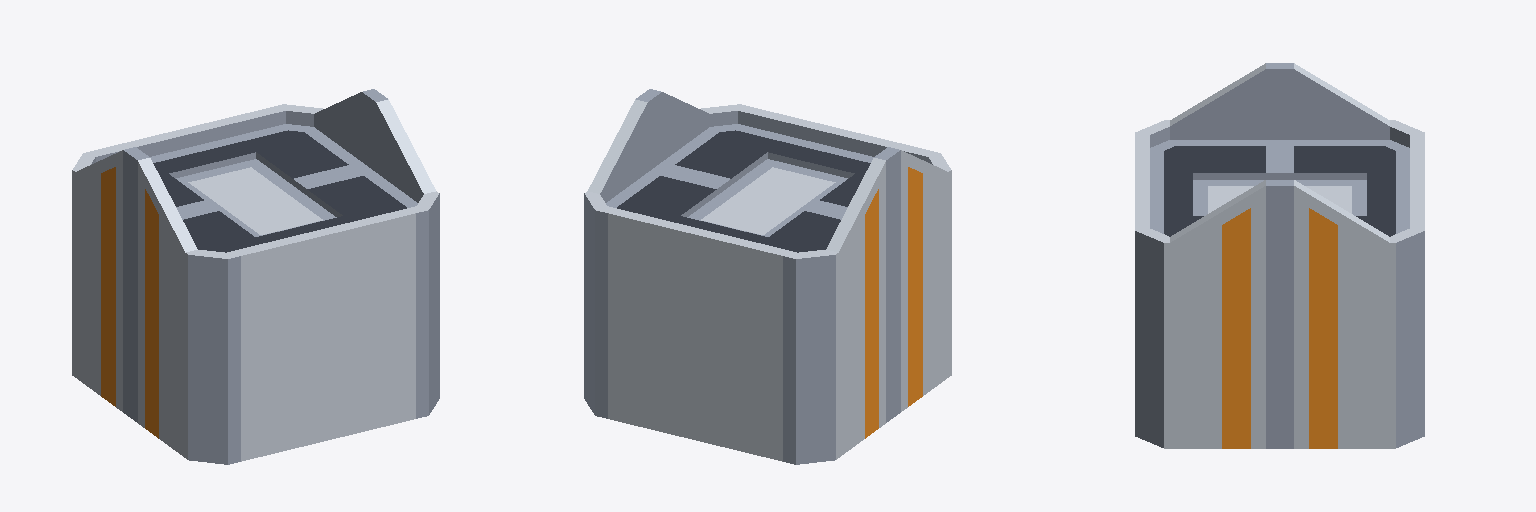
Rendered from buildings_4.obj.
The picture shows the model from 3 angles: view 1: azimuth 30°, elevation 25°; view 2: azimuth 150°, elevation 25°; view 3: azimuth 270°, elevation 25°; orthographic projection.
Parts seen in each view (by area): view 1: hangar_smallB.003_hangar_smallB.002; view 2: hangar_smallB.003_hangar_smallB.002; view 3: hangar_smallB.003_hangar_smallB.002.
Boxes of the visible parts, x1=… form: hangar_smallB.003_hangar_smallB.002: x1=72, y1=89, x2=439, y2=464; hangar_smallB.003_hangar_smallB.002: x1=584, y1=89, x2=951, y2=464; hangar_smallB.003_hangar_smallB.002: x1=1135, y1=63, x2=1424, y2=448.
Size of the model in its own units: 2 by 2 by 2.